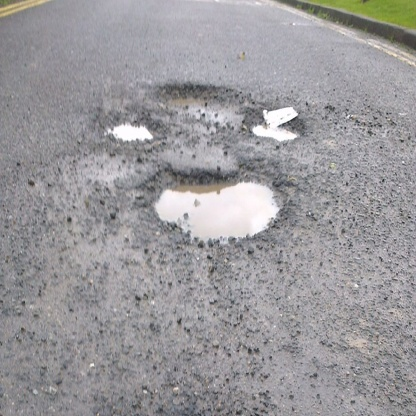pothole: (135, 158, 302, 257), (137, 76, 252, 131), (87, 105, 170, 158), (238, 108, 306, 145)
